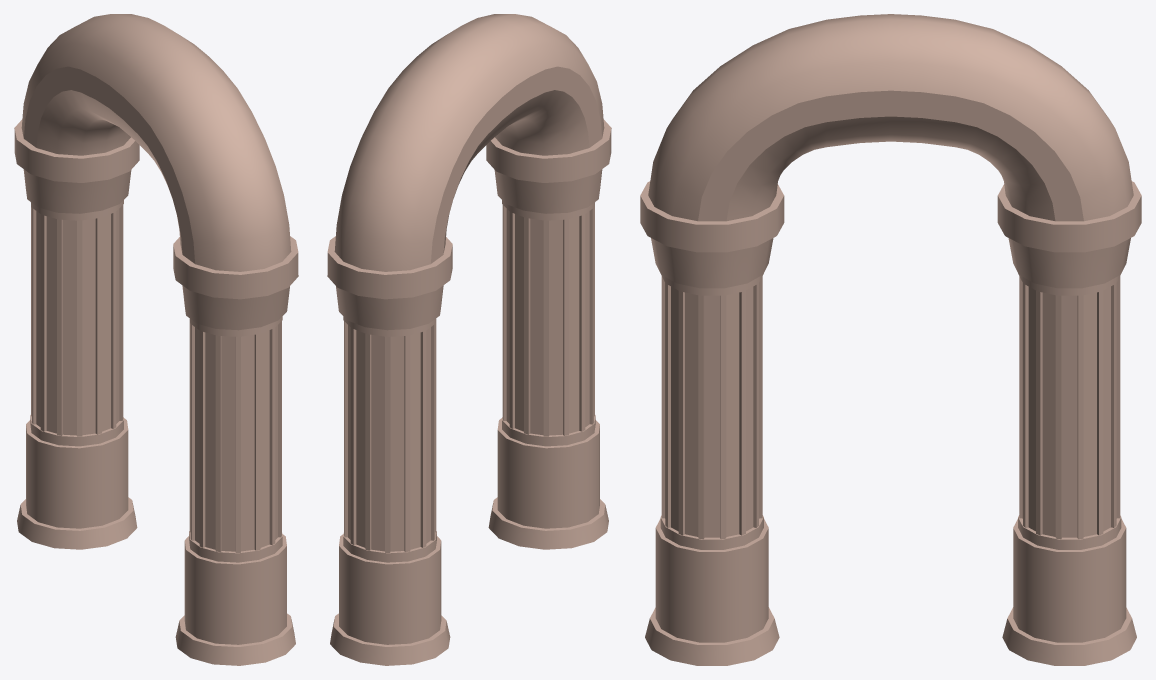
The model's file is kolumna_2.2.obj.
3 views of the same model, side by side, from view 1: azimuth 30°, elevation 25°; view 2: azimuth 150°, elevation 25°; view 3: azimuth 270°, elevation 25° (orthographic). The views are drawn at different scales.
Visible parts, largest first — view 1: Cylinder.014; view 2: Cylinder.014; view 3: Cylinder.014.
Boxes of the visible parts, x1=… form: Cylinder.014: x1=14, y1=14, x2=298, y2=665; Cylinder.014: x1=327, y1=14, x2=611, y2=665; Cylinder.014: x1=640, y1=14, x2=1141, y2=665.
Size of the model in its own units: 3.18 by 15.68 by 11.54.
